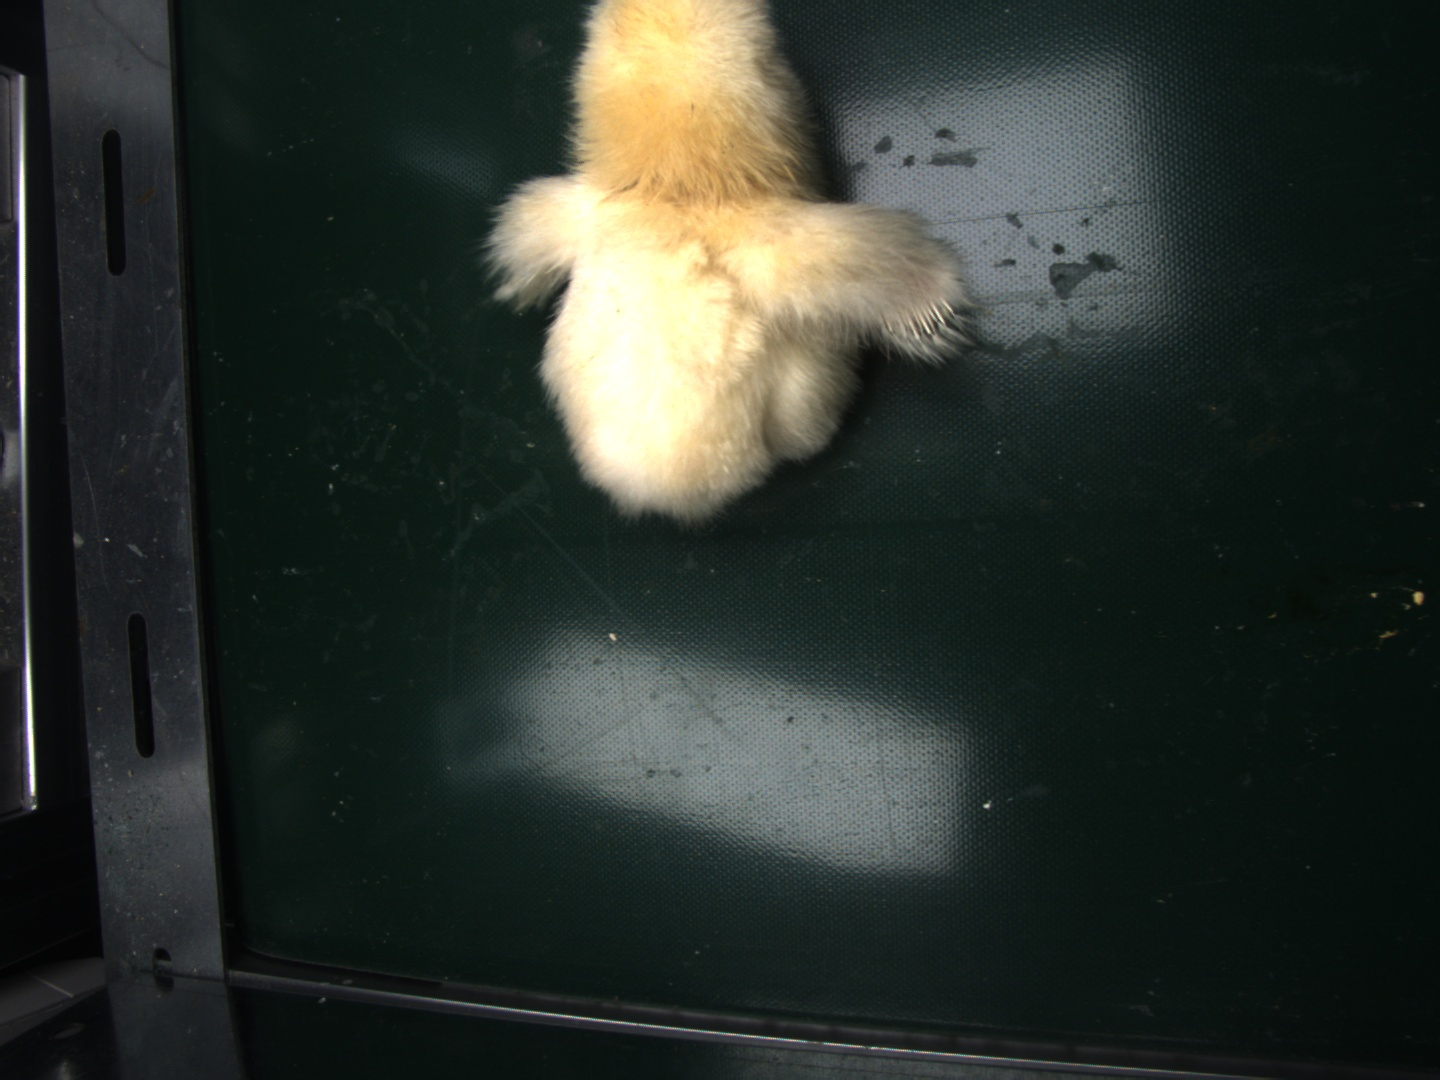male: (890, 296, 955, 341)
